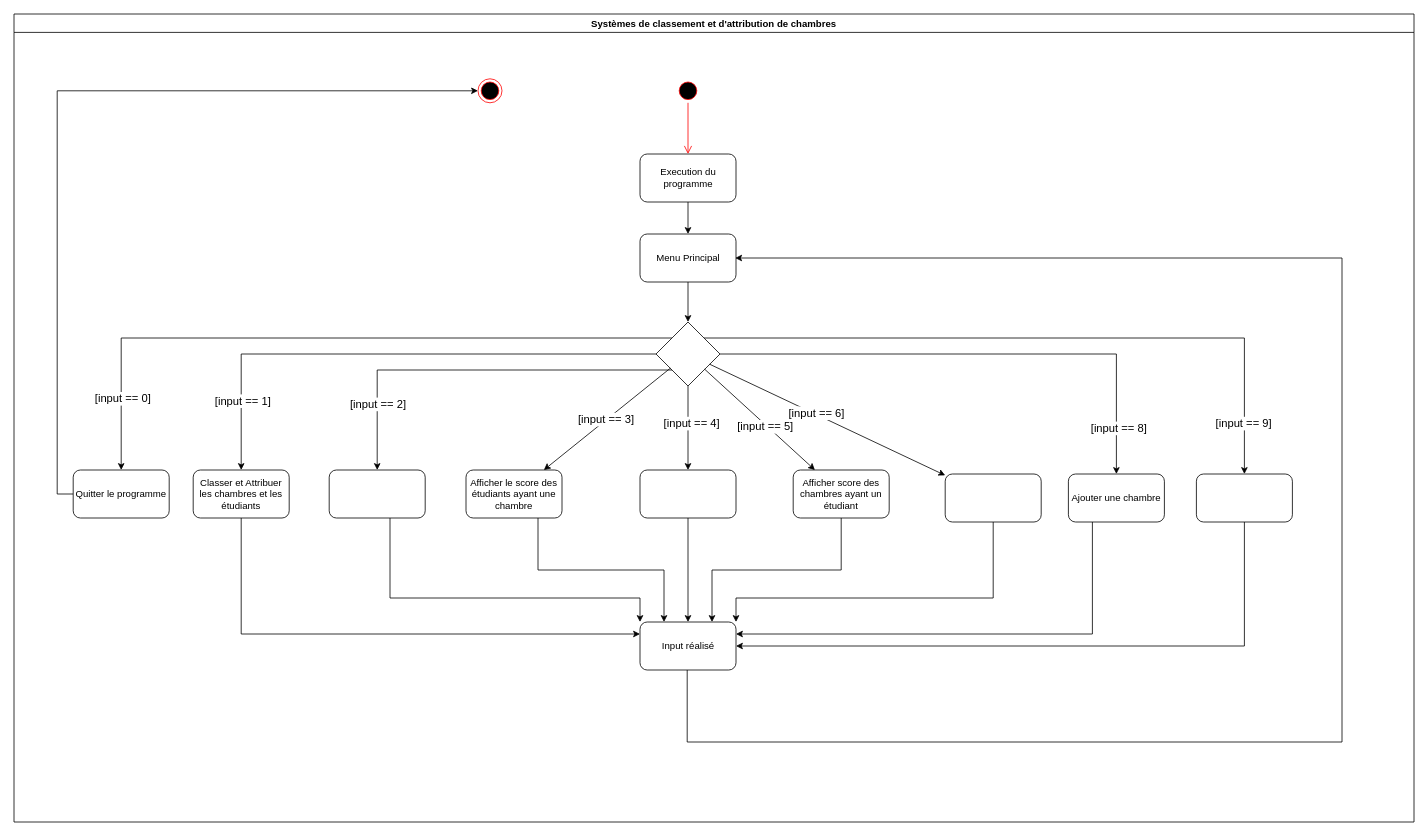
This 1428x836 diagram has some shape labels left out. Each missing label, with the box of its shape:
Afficher l'étudiant et sa chambre: (328, 469, 425, 518)
Afficher la chambre et son étudiant: (639, 469, 736, 518)
Ajouter un étudiant: (1196, 473, 1292, 522)
Libérer une chambre: (944, 473, 1041, 522)
